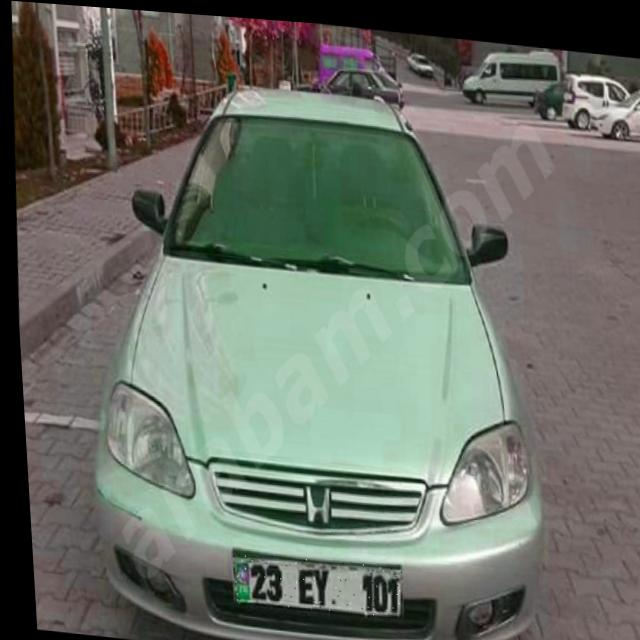license_plate: (224, 546, 399, 614)
